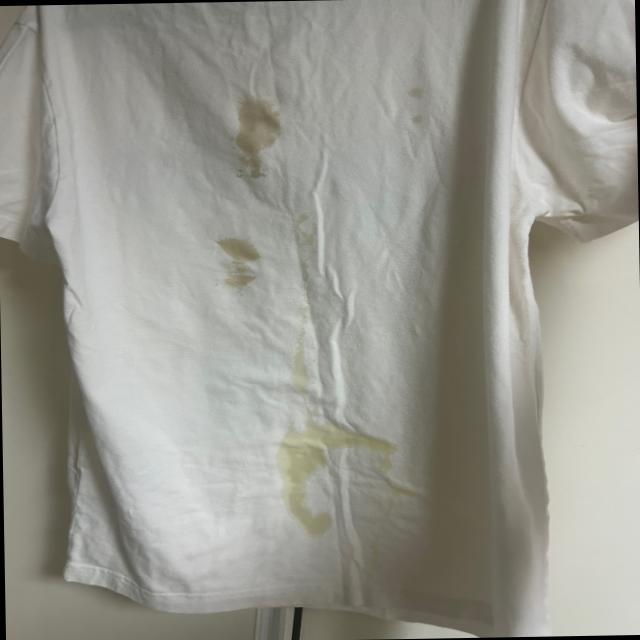stain: (274, 417, 404, 544), (228, 98, 288, 188), (218, 231, 262, 297), (392, 81, 444, 130), (280, 339, 325, 392)
